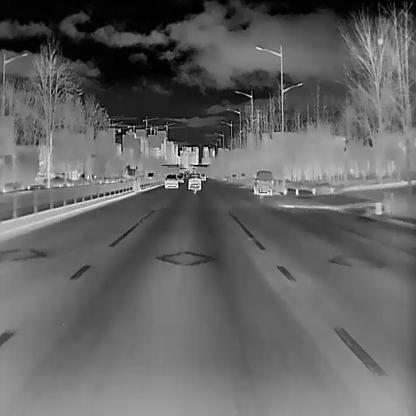car: (252, 169, 273, 195), (187, 173, 201, 189), (123, 164, 136, 180), (165, 173, 178, 188), (175, 171, 184, 182), (199, 173, 206, 181), (147, 171, 154, 179)
